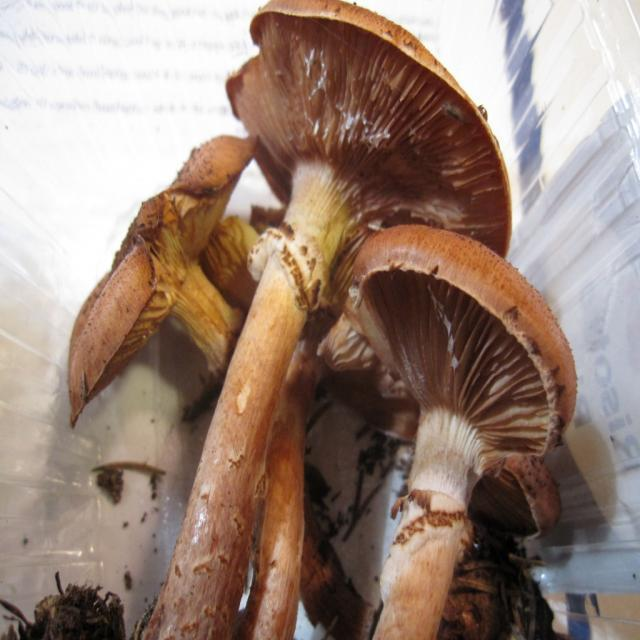Armillaria mellea: (70, 0, 580, 640)
